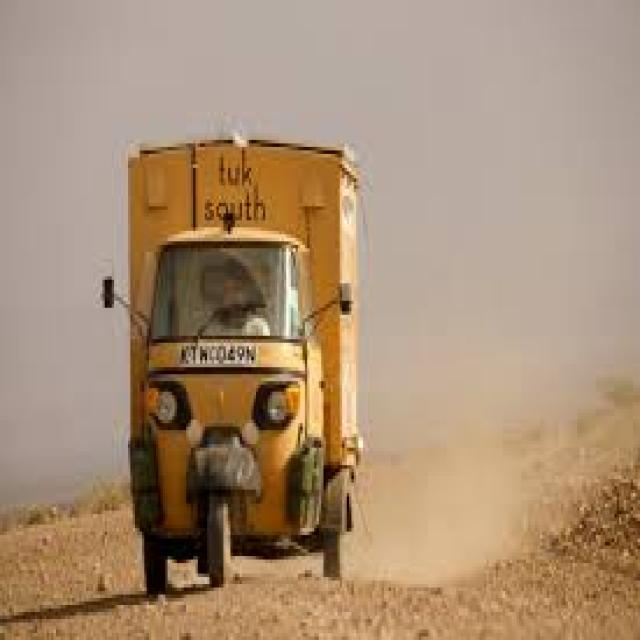tuktuk: (62, 50, 410, 616)
